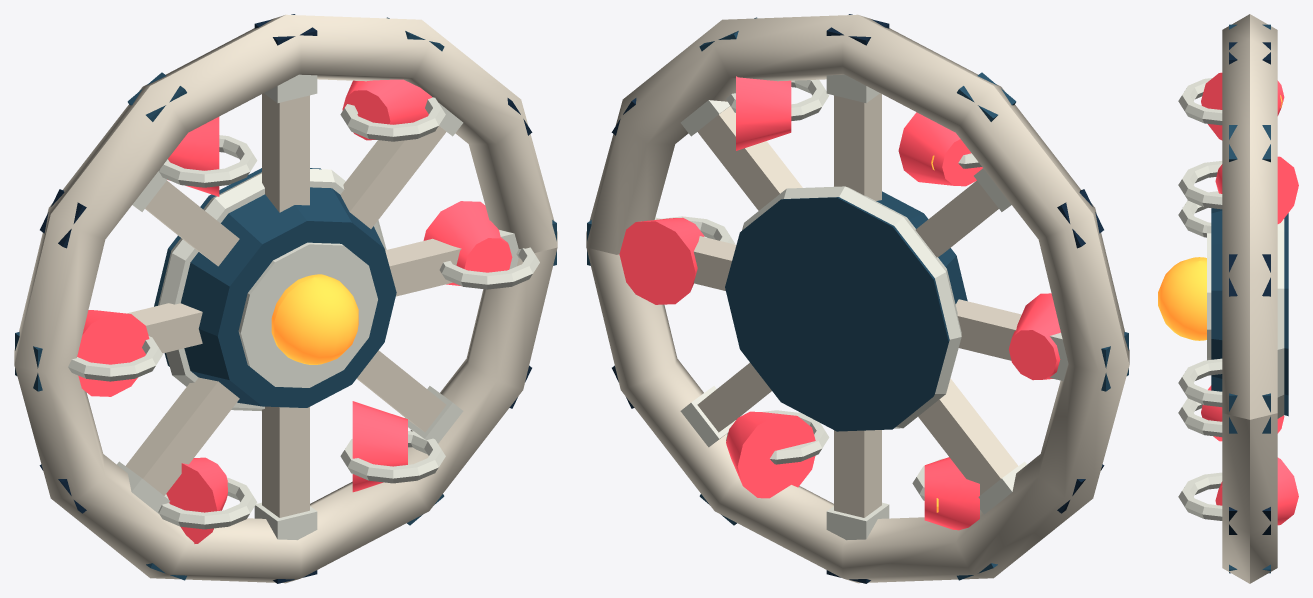
File: guardian-low.glb
3 views of the same model, side by side, from view 1: azimuth 30°, elevation 25°; view 2: azimuth 150°, elevation 25°; view 3: azimuth 270°, elevation 25° (orthographic). The views are drawn at different scales.
Visible parts, largest first — view 1: motion-wheel, hull_static, porcelain_static, accent_static, telegraph_socket (×6), exposed_core, dark_static; view 2: motion-wheel, accent_static, hull_static, telegraph_socket (×6), porcelain_static, dark_static; view 3: motion-wheel, porcelain_static, telegraph_socket (×4), accent_static, exposed_core, dark_static.
Boxes of the visible parts, bbox=[...] form: motion-wheel: bbox=[14, 14, 557, 583]; hull_static: bbox=[126, 93, 461, 517]; porcelain_static: bbox=[68, 74, 539, 540]; accent_static: bbox=[15, 17, 556, 580]; telegraph_socket (×6): bbox=[77, 79, 512, 543]; exposed_core: bbox=[271, 274, 358, 364]; dark_static: bbox=[39, 14, 532, 583]; motion-wheel: bbox=[586, 14, 1129, 583]; accent_static: bbox=[587, 17, 1128, 580]; hull_static: bbox=[693, 93, 1021, 517]; telegraph_socket (×6): bbox=[619, 76, 1060, 530]; porcelain_static: bbox=[654, 74, 1068, 540]; dark_static: bbox=[611, 14, 1104, 583]; motion-wheel: bbox=[1222, 14, 1277, 583]; porcelain_static: bbox=[1178, 78, 1284, 520]; telegraph_socket (×4): bbox=[1201, 72, 1298, 525]; accent_static: bbox=[1211, 24, 1288, 573]; exposed_core: bbox=[1158, 257, 1206, 340]; dark_static: bbox=[1229, 42, 1270, 534].
Bounding box in the file's own units: 3400 × 3400 × 838.
